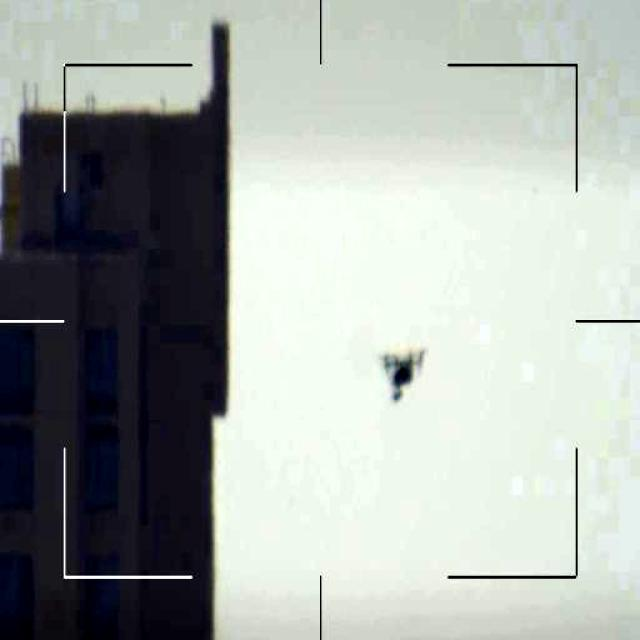bird: (379, 344, 429, 406)
